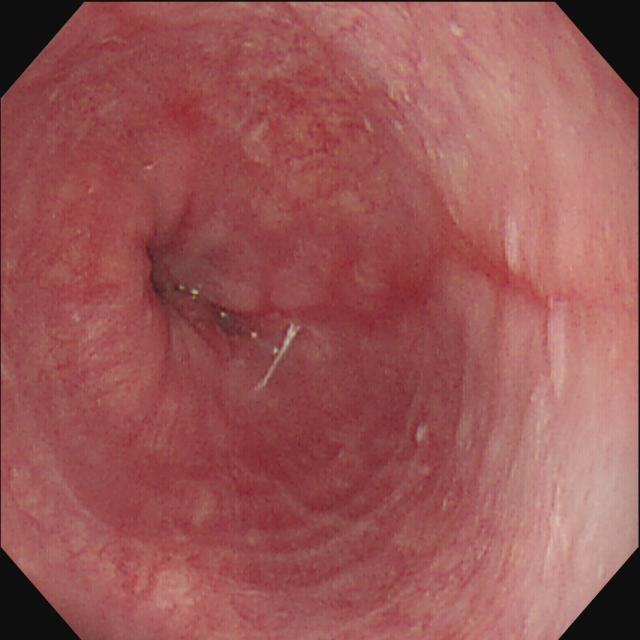A: (247, 66, 387, 171)
J: (135, 542, 208, 616), (256, 326, 300, 391), (544, 294, 570, 401), (502, 216, 525, 277)
